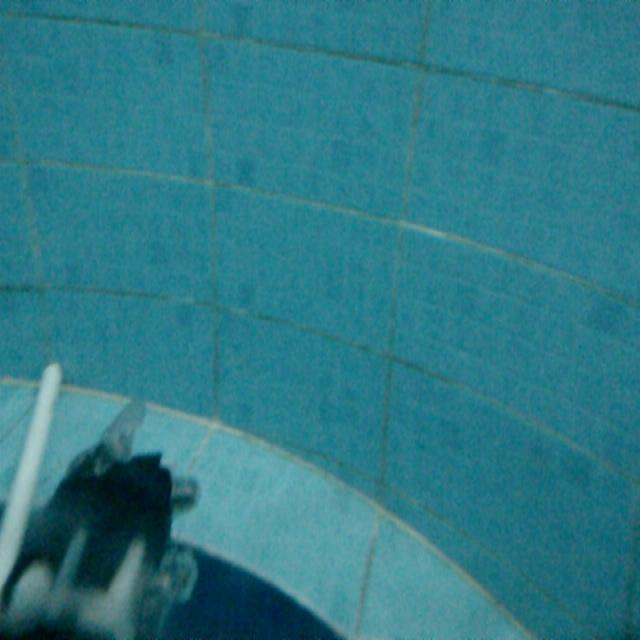Cube: (0, 354, 64, 634)
